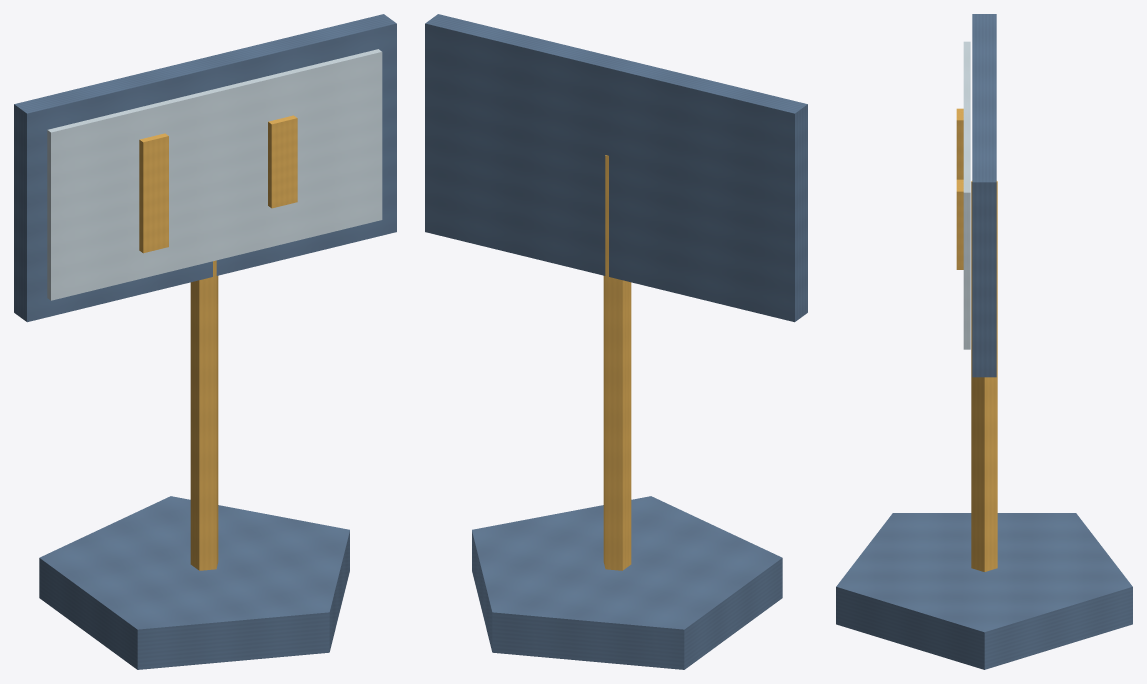
The model's file is atlas100-s053-a11.lod1.glb.
3 views of the same model, side by side, from view 1: azimuth 30°, elevation 25°; view 2: azimuth 150°, elevation 25°; view 3: azimuth 270°, elevation 25° (orthographic). The views are drawn at different scales.
Parts seen in each view (by area): view 1: atlas100-s053-a11:part-003, atlas100-s053-a11:part-000, atlas100-s053-a11:part-002, atlas100-s053-a11:part-001, atlas100-s053-a11:part-004, atlas100-s053-a11:part-006; view 2: atlas100-s053-a11:part-002, atlas100-s053-a11:part-000, atlas100-s053-a11:part-001; view 3: atlas100-s053-a11:part-000, atlas100-s053-a11:part-002, atlas100-s053-a11:part-001, atlas100-s053-a11:part-003, atlas100-s053-a11:part-006, atlas100-s053-a11:part-004.
Part boxes in pixels (x1,y1,x2,y2): atlas100-s053-a11:part-003: (47, 49, 382, 300); atlas100-s053-a11:part-000: (39, 496, 349, 669); atlas100-s053-a11:part-002: (14, 14, 396, 322); atlas100-s053-a11:part-001: (190, 260, 218, 570); atlas100-s053-a11:part-004: (139, 133, 168, 253); atlas100-s053-a11:part-006: (268, 115, 297, 208); atlas100-s053-a11:part-002: (425, 14, 807, 322); atlas100-s053-a11:part-000: (472, 496, 782, 669); atlas100-s053-a11:part-001: (603, 155, 631, 570); atlas100-s053-a11:part-000: (836, 513, 1132, 669); atlas100-s053-a11:part-002: (972, 14, 996, 377); atlas100-s053-a11:part-001: (971, 181, 997, 571); atlas100-s053-a11:part-003: (963, 41, 970, 349); atlas100-s053-a11:part-006: (956, 179, 963, 269); atlas100-s053-a11:part-004: (956, 108, 963, 179).
Bounding box in the file's own units: 1.15 × 1.61 × 0.856.
3 materials, 3 textured.
